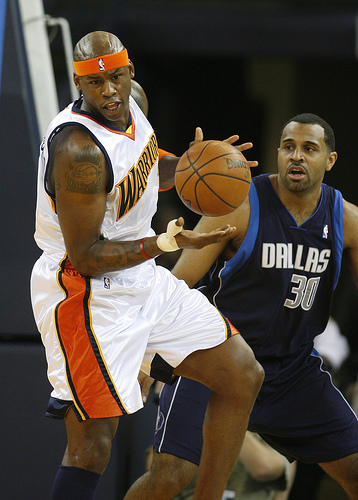basketball: (175, 139, 252, 217)
